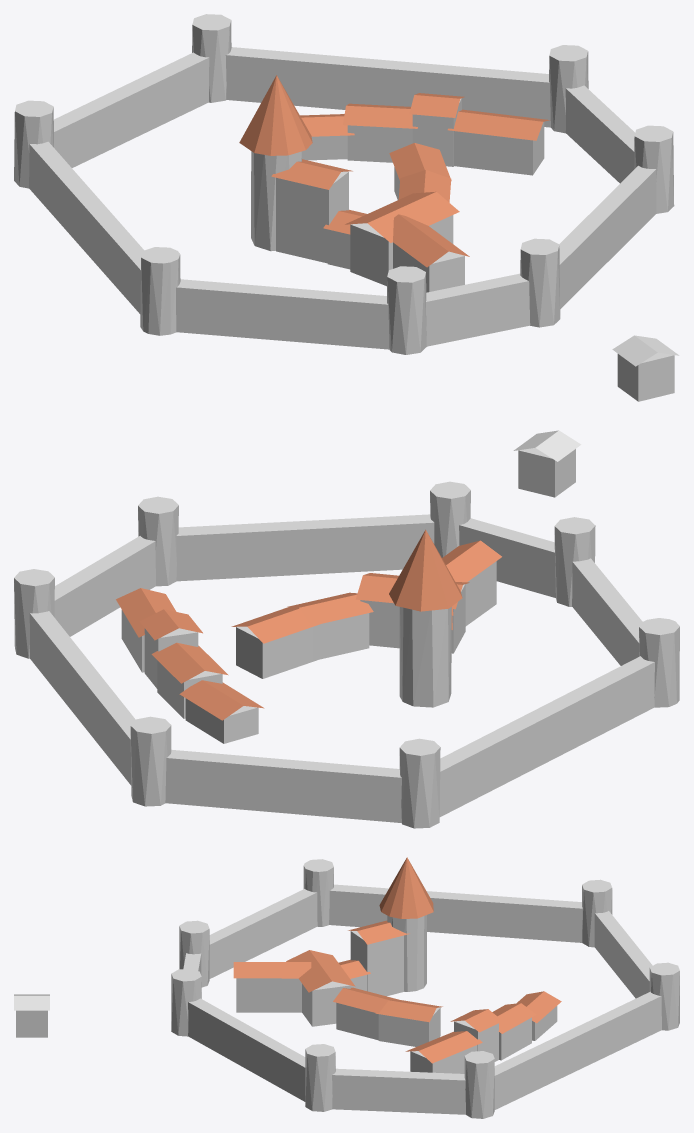
File: env-src.glb
3 views of the same model, one above another, from view 1: azimuth 30°, elevation 25°; view 2: azimuth 150°, elevation 25°; view 3: azimuth 270°, elevation 25° (orthographic). The views are drawn at different scales.
Parts seen in each view (by area): view 1: Cube.012, Cube.015, Cube.013, Cube.014, Cube.017, Cube.005, Cube.016, Cube.009, Cube.003, Cube.011, Cube.006, Cube.008 (+15 smaller); view 2: Cube.017, Cube.013, Cube.014, Cube.012, Cube.011, Cylinder, Cube, Cube.015, Cube.016, Cube.010, Cube.002, Cylinder.002 (+13 smaller); view 3: Cube.014, Cube.012, Cube.011, Cube.017, Cube.015, Cube.006, Cube.005, Cube.003, Cube.013, Cube, Cube.009, Cube.002 (+14 smaller).
Part boxes in pixels (x1=…): Cube.012: x1=225, y1=47, x2=550, y2=127; Cube.015: x1=176, y1=279, x2=389, y2=349; Cube.013: x1=53, y1=52, x2=209, y2=167; Cube.014: x1=29, y1=141, x2=144, y2=313; Cube.017: x1=559, y1=165, x2=656, y2=308; Cube.005: x1=271, y1=159, x2=352, y2=263; Cube.016: x1=426, y1=273, x2=530, y2=346; Cube.009: x1=447, y1=109, x2=549, y2=175; Cube.003: x1=345, y1=191, x2=459, y2=286; Cube.011: x1=565, y1=85, x2=635, y2=183; Cube.006: x1=393, y1=214, x2=469, y2=292; Cube.008: x1=343, y1=103, x2=417, y2=162; Cube.017: x1=176, y1=514, x2=434, y2=581; Cube.013: x1=165, y1=749, x2=401, y2=822; Cube.014: x1=439, y1=656, x2=654, y2=816; Cube.012: x1=29, y1=611, x2=135, y2=785; Cube.011: x1=54, y1=536, x2=155, y2=636; Cylinder: x1=399, y1=607, x2=451, y2=707; Cube: x1=231, y1=607, x2=319, y2=678; Cube.015: x1=572, y1=558, x2=642, y2=665; Cube.016: x1=459, y1=518, x2=555, y2=597; Cube.010: x1=179, y1=680, x2=264, y2=743; Cube.002: x1=287, y1=592, x2=373, y2=660; Cylinder.002: x1=399, y1=738, x2=440, y2=828; Cube.014: x1=329, y1=884, x2=582, y2=942; Cube.012: x1=494, y1=991, x2=661, y2=1109; Cube.011: x1=332, y1=1068, x2=465, y2=1114; Cube.017: x1=188, y1=998, x2=305, y2=1101; Cube.015: x1=209, y1=889, x2=317, y2=978; Cube.006: x1=233, y1=962, x2=311, y2=1012; Cube.005: x1=348, y1=920, x2=409, y2=996; Cube.003: x1=286, y1=950, x2=355, y2=1026; Cube.013: x1=594, y1=911, x2=652, y2=998; Cube: x1=375, y1=999, x2=442, y2=1046; Cube.009: x1=405, y1=1031, x2=482, y2=1073; Cube.002: x1=333, y1=987, x2=398, y2=1040.
Size of the model in its own units: 0.8119 by 0.238 by 1.12.
